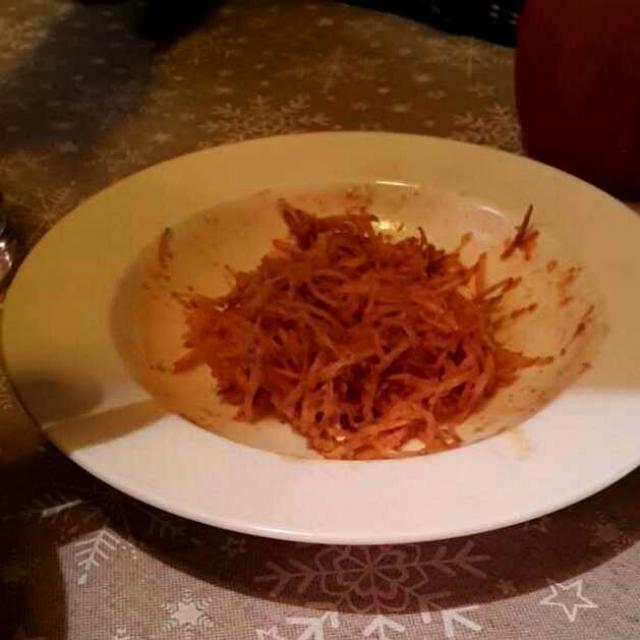pasta: (166, 200, 529, 457)
